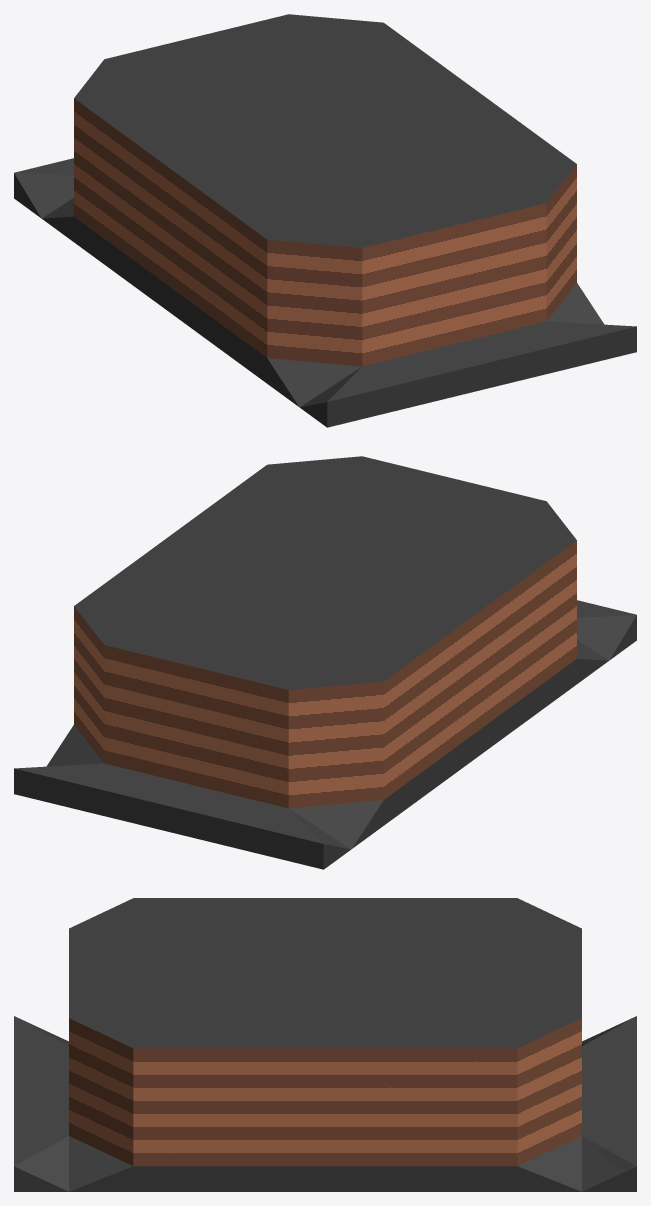
Rendered from stator_coil_copper.obj.
3 views of the same model, one above another, from view 1: azimuth 30°, elevation 25°; view 2: azimuth 150°, elevation 25°; view 3: azimuth 270°, elevation 25° (orthographic).
Parts seen in each view (by area): view 1: Цилиндр.001; view 2: Цилиндр.001; view 3: Цилиндр.001.
Boxes of the visible parts, <box> form: Цилиндр.001: <box>14,14,636,427</box>; Цилиндр.001: <box>14,456,636,869</box>; Цилиндр.001: <box>14,898,636,1191</box>.
Size of the model in its own units: 0.5393 by 0.2398 by 0.9445.
